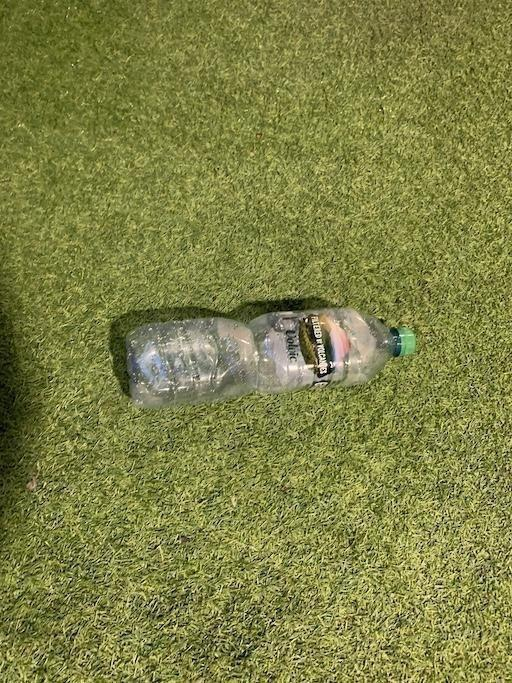bottle-plastic: (122, 300, 417, 406)
